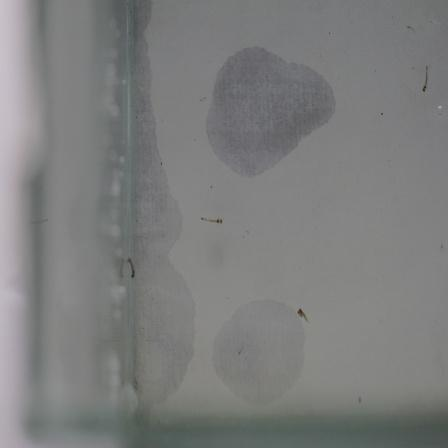Jentik-Nyamuk: (418, 61, 435, 99), (197, 209, 227, 227), (294, 304, 315, 329), (124, 255, 141, 282)
